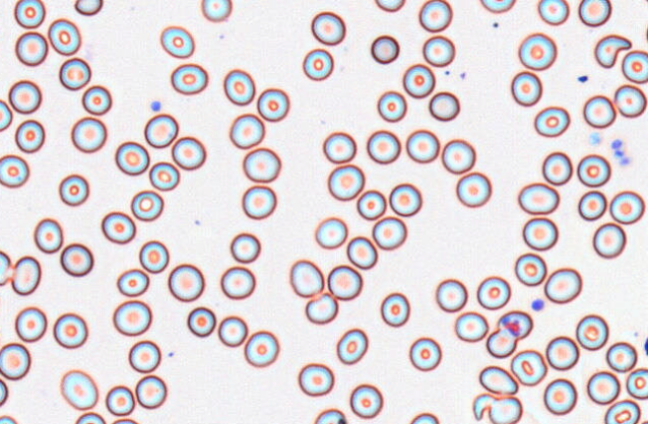PLT: (530, 297, 547, 313), (148, 99, 163, 113), (618, 155, 631, 167), (610, 138, 623, 149), (615, 147, 626, 158)
RBC: (60, 369, 98, 410), (112, 299, 152, 336), (518, 32, 556, 70), (167, 263, 204, 302), (510, 349, 547, 386), (327, 163, 364, 200), (544, 267, 582, 303), (242, 147, 281, 182), (70, 116, 107, 152), (243, 330, 279, 367), (289, 259, 324, 297), (518, 182, 559, 214), (455, 171, 491, 207), (229, 113, 265, 149), (327, 264, 362, 300), (53, 312, 88, 348), (47, 18, 81, 55), (543, 378, 577, 415), (297, 362, 334, 396), (241, 184, 276, 219), (114, 140, 149, 175), (371, 216, 407, 250), (592, 222, 626, 258), (441, 138, 475, 174), (609, 190, 645, 224), (575, 313, 608, 350), (170, 63, 208, 95), (11, 255, 41, 295), (14, 31, 48, 66), (144, 113, 178, 148), (545, 335, 579, 370), (310, 11, 345, 45), (220, 265, 255, 299), (171, 135, 205, 170), (366, 129, 400, 164), (349, 383, 383, 418), (476, 275, 510, 310), (576, 153, 611, 187), (14, 306, 47, 342), (522, 217, 558, 250), (533, 105, 570, 137), (223, 68, 255, 105), (0, 342, 31, 380), (478, 365, 517, 395), (586, 370, 620, 404), (405, 129, 439, 163), (582, 94, 616, 128), (388, 182, 422, 216), (8, 79, 41, 114), (402, 63, 435, 98), (613, 83, 646, 118), (408, 336, 441, 371), (159, 25, 194, 58), (336, 328, 368, 364), (510, 70, 542, 106), (256, 87, 289, 121), (60, 242, 93, 276), (101, 211, 135, 244), (128, 339, 161, 373), (135, 374, 167, 409), (58, 57, 91, 90), (314, 216, 347, 249), (435, 278, 467, 312), (514, 252, 546, 286), (418, 0, 452, 32), (322, 131, 356, 163), (33, 217, 63, 253), (380, 291, 410, 327), (130, 189, 163, 221), (422, 35, 455, 67), (541, 151, 572, 185), (346, 235, 377, 269), (454, 311, 488, 342), (14, 119, 45, 153), (138, 240, 169, 273), (58, 173, 89, 206), (217, 315, 248, 347), (302, 48, 333, 80), (605, 341, 637, 372), (376, 90, 407, 122), (488, 395, 522, 424), (0, 154, 29, 188), (485, 327, 516, 358), (229, 232, 260, 263), (81, 84, 112, 115), (148, 161, 180, 191), (116, 268, 149, 297), (428, 91, 459, 121), (105, 385, 135, 416), (186, 306, 216, 337), (356, 189, 386, 220), (621, 49, 648, 83), (577, 190, 607, 220), (13, 0, 45, 28), (370, 34, 399, 64), (604, 399, 640, 423), (578, 0, 611, 26), (537, 0, 569, 25), (625, 367, 648, 399), (200, 0, 232, 22), (313, 408, 347, 424), (479, 0, 516, 13), (74, 0, 103, 15), (74, 411, 106, 424), (0, 249, 11, 286), (0, 98, 12, 131), (408, 412, 439, 424), (374, 0, 405, 12), (0, 377, 8, 406), (109, 417, 141, 424), (0, 414, 18, 424), (643, 332, 648, 358), (645, 21, 648, 44)
Schistocyte: (592, 34, 632, 69), (304, 293, 340, 325), (496, 310, 534, 339), (471, 393, 498, 421)
